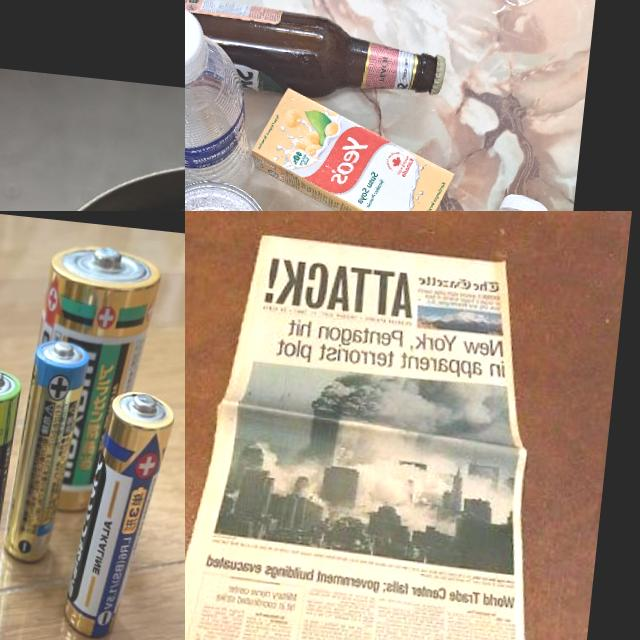bateria: (13, 237, 164, 518), (58, 381, 176, 640), (0, 338, 89, 568), (0, 359, 24, 608)
caixinha: (242, 84, 458, 211)
garrafa de vidro: (185, 0, 452, 103)
garrafa plástica: (185, 30, 253, 206)
lata: (0, 136, 185, 211)
papel: (185, 228, 581, 640)
tampa plástica: (185, 0, 203, 83), (495, 194, 548, 211)
